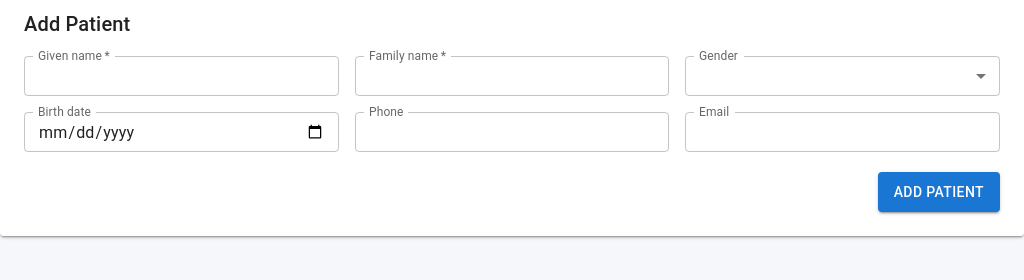
PatientForm › blocks submit when email is malformed and shows inline error
Type "invalid-email" into the field labelled "Email". click: (843, 132)
box: top-left (685, 112), bottom-right (1000, 152)
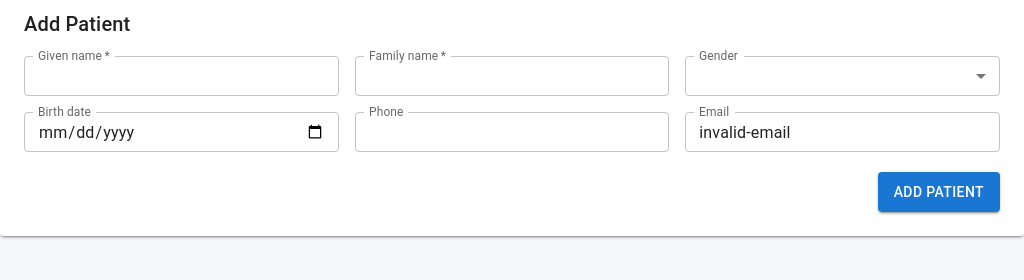
Click the button "Add Patient". click: (939, 192)
box: top-left (878, 172), bottom-right (1000, 212)
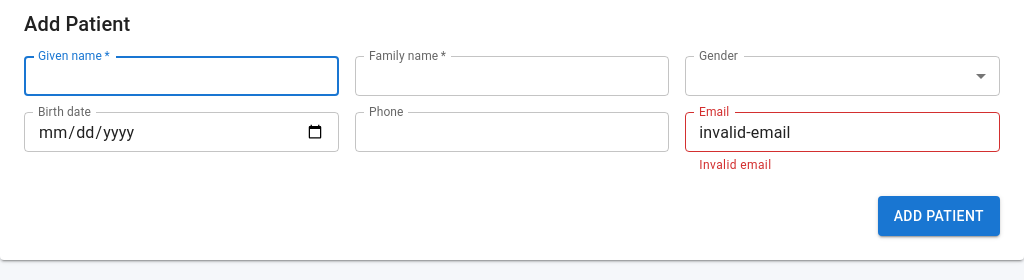
Expected: the text "Invalid email" is shown, top-left (699, 158), bottom-right (772, 172)
